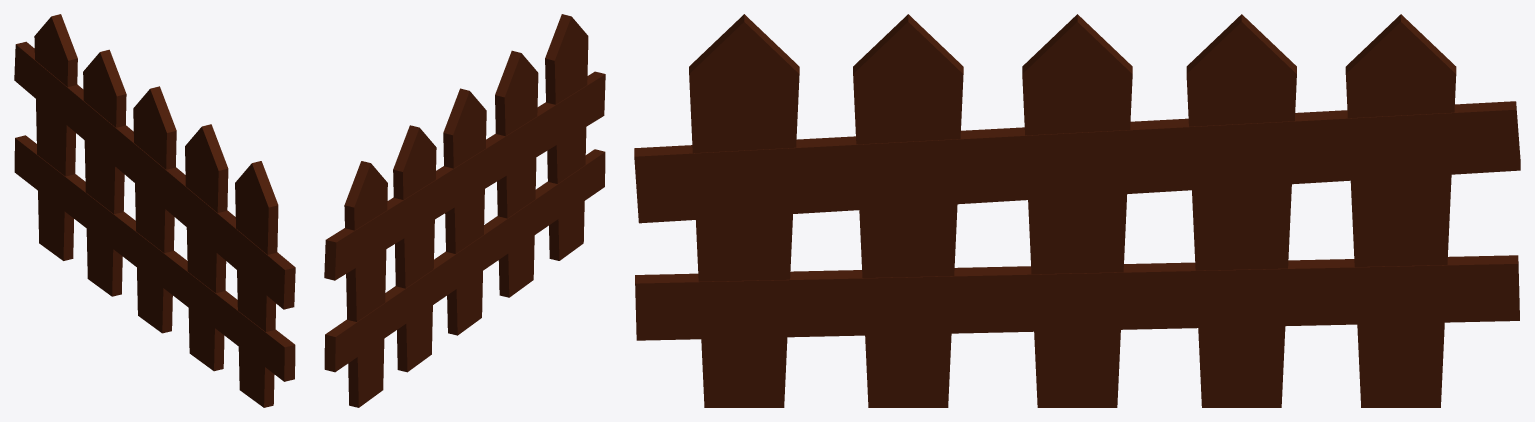
File: Fence.fbx
The picture shows the model from 3 angles, left to right: view 1: azimuth 30°, elevation 25°; view 2: azimuth 150°, elevation 25°; view 3: azimuth 270°, elevation 25°; orthographic projection. The views are drawn at different scales.
Parts seen in each view (by area): view 1: Cube, Cube.001, Fence.002, Fence.001, Fence, Fence.003, Fence.004; view 2: Cube, Cube.001, Fence.002, Fence.001, Fence, Fence.003, Fence.004; view 3: Cube, Cube.001, Fence.002, Fence.001, Fence, Fence.003, Fence.004.
Boxes of the visible parts, x1,y1,x2,y2 form: Cube: [14, 41, 295, 309]; Cube.001: [14, 135, 295, 381]; Fence.002: [34, 14, 77, 260]; Fence.001: [83, 49, 126, 296]; Fence: [133, 86, 176, 333]; Fence.003: [185, 124, 228, 371]; Fence.004: [235, 161, 278, 407]; Cube: [324, 71, 605, 280]; Cube.001: [324, 149, 605, 372]; Fence.002: [344, 161, 387, 407]; Fence.001: [393, 125, 436, 372]; Fence: [443, 88, 486, 335]; Fence.003: [495, 50, 538, 297]; Fence.004: [545, 14, 588, 260]; Cube: [634, 101, 1520, 223]; Cube.001: [635, 255, 1519, 340]; Fence.002: [1345, 14, 1456, 407]; Fence.001: [1186, 14, 1296, 407]; Fence: [1022, 14, 1132, 407]; Fence.003: [853, 14, 963, 407]; Fence.004: [689, 14, 799, 407].
Bounding box in the file's own units: 11 × 232 × 482.
